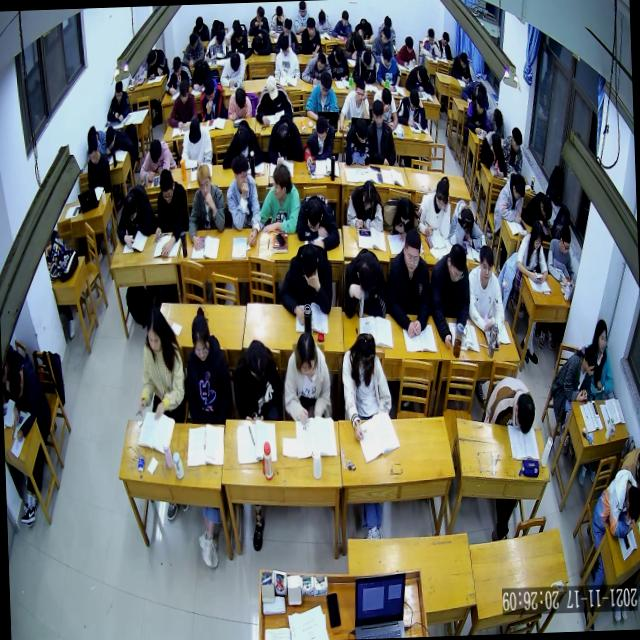bow: (482, 374, 536, 436), (294, 189, 340, 250), (115, 182, 155, 250), (264, 112, 305, 170), (446, 194, 487, 251), (220, 115, 264, 168), (136, 136, 178, 184), (380, 192, 420, 242), (300, 48, 332, 88), (522, 190, 554, 230), (404, 62, 436, 98), (102, 122, 134, 156), (144, 45, 170, 80), (190, 54, 214, 89), (460, 78, 488, 107), (342, 27, 366, 57), (249, 23, 271, 52)
down: (7, 353, 52, 442), (292, 332, 318, 378), (354, 249, 379, 295), (244, 334, 268, 380), (190, 310, 212, 360), (354, 331, 378, 376), (144, 305, 165, 355), (296, 240, 321, 280), (445, 242, 467, 284), (303, 192, 322, 232), (623, 482, 640, 522), (6, 364, 24, 400), (158, 167, 175, 204), (458, 206, 476, 239), (122, 193, 140, 225), (582, 342, 598, 378), (359, 178, 376, 210), (434, 175, 449, 208), (510, 172, 526, 202), (397, 193, 412, 224), (274, 120, 290, 149), (234, 122, 250, 151), (370, 98, 385, 128), (186, 114, 202, 142), (530, 220, 544, 251), (558, 225, 572, 256), (354, 116, 369, 144), (265, 70, 279, 100), (148, 138, 163, 166), (318, 70, 332, 98), (314, 112, 328, 140), (86, 134, 99, 162), (540, 192, 552, 221), (103, 123, 116, 149), (178, 74, 190, 102), (354, 76, 366, 104), (511, 126, 523, 154), (204, 74, 216, 100), (234, 82, 247, 106), (490, 128, 502, 154), (380, 85, 392, 110), (212, 28, 225, 50), (229, 52, 242, 74), (279, 33, 291, 56), (381, 46, 393, 69), (192, 56, 205, 76), (379, 23, 392, 43), (282, 17, 294, 38), (144, 48, 157, 67), (305, 16, 316, 38), (315, 50, 327, 70), (332, 43, 344, 63), (352, 32, 364, 52), (408, 86, 420, 106), (476, 90, 486, 114), (114, 79, 124, 102), (172, 54, 182, 76), (417, 62, 428, 82), (493, 106, 503, 128), (188, 30, 198, 51), (194, 14, 204, 34), (233, 20, 243, 40), (317, 4, 327, 24), (359, 16, 369, 36), (362, 48, 372, 68), (404, 30, 414, 50), (458, 48, 468, 68), (255, 4, 265, 23), (274, 4, 284, 22), (340, 10, 350, 28), (426, 24, 435, 44), (297, 1, 307, 18), (441, 31, 450, 47)
lookup: (402, 225, 422, 272), (478, 240, 494, 283), (195, 163, 212, 202), (594, 318, 609, 354)
sit: (180, 304, 232, 428), (339, 328, 394, 442), (133, 302, 186, 420), (383, 225, 434, 337), (280, 328, 332, 426), (277, 240, 335, 324), (428, 240, 472, 350), (230, 332, 284, 418), (587, 465, 640, 541), (183, 162, 226, 253), (148, 162, 190, 255), (465, 238, 506, 332), (340, 243, 388, 322), (223, 150, 261, 247), (258, 159, 301, 235), (550, 339, 600, 402), (415, 176, 453, 240), (514, 219, 549, 285), (252, 74, 294, 127), (588, 312, 614, 396), (364, 95, 396, 163), (176, 116, 214, 172), (344, 176, 384, 228), (336, 75, 370, 133), (302, 65, 339, 118), (492, 170, 527, 226), (300, 112, 336, 166), (546, 218, 575, 285), (167, 78, 198, 131), (84, 134, 112, 192), (198, 70, 228, 122), (342, 112, 372, 164), (394, 83, 427, 129), (478, 124, 506, 176), (374, 42, 402, 90), (370, 82, 399, 128), (271, 30, 300, 75), (162, 52, 192, 94), (464, 88, 491, 133), (500, 124, 524, 174), (218, 50, 247, 89), (106, 76, 130, 120), (350, 48, 377, 86), (225, 20, 252, 56), (225, 84, 252, 120), (274, 18, 300, 54), (299, 16, 323, 55), (180, 30, 204, 67), (326, 40, 350, 77), (246, 3, 270, 38), (370, 23, 394, 58), (203, 24, 226, 60), (395, 30, 417, 66), (329, 8, 353, 40), (419, 23, 442, 56), (450, 47, 472, 79), (268, 3, 288, 38), (292, 1, 312, 34), (485, 106, 505, 139), (354, 12, 374, 40), (191, 9, 210, 38), (314, 4, 332, 34), (438, 28, 452, 58)
